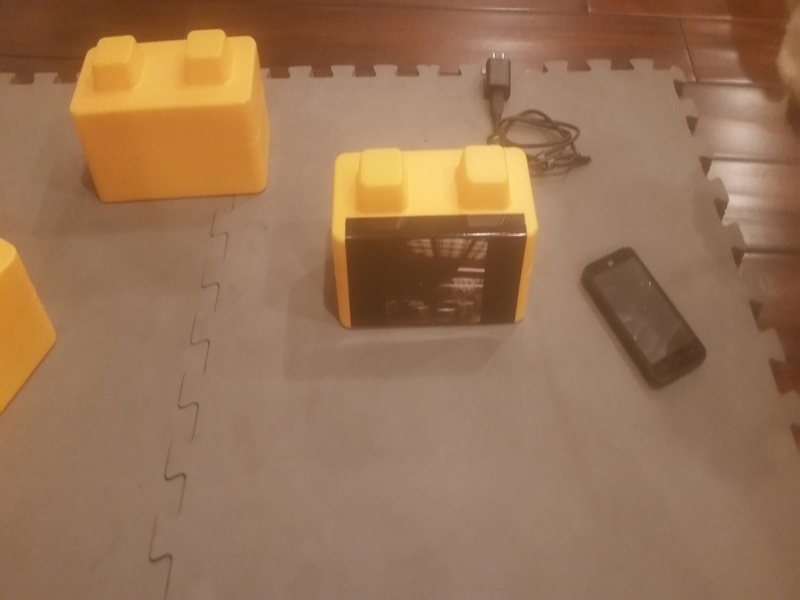Skystone: (316, 140, 552, 348)
Stone: (71, 30, 282, 197)
